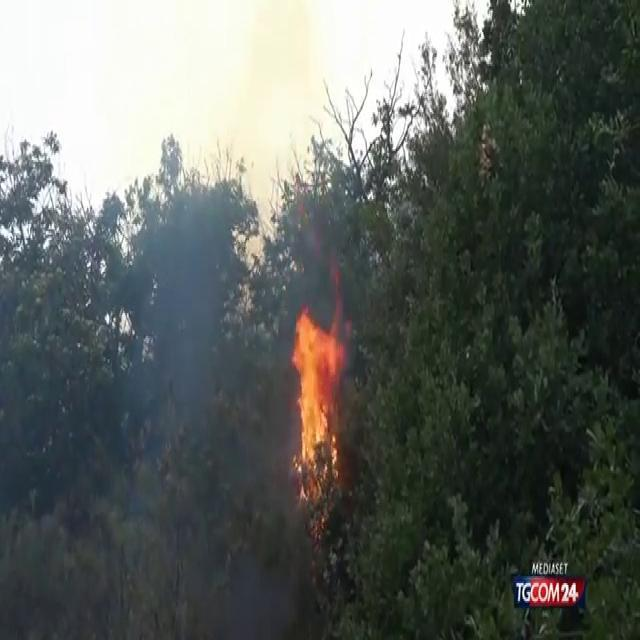Fire: (284, 292, 350, 522)
